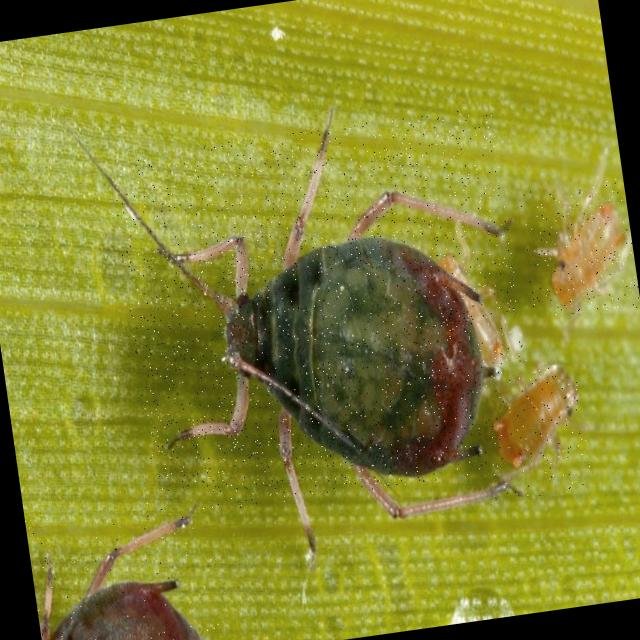aphid: (109, 105, 542, 519), (24, 487, 232, 640), (517, 176, 640, 322), (476, 362, 594, 503)
